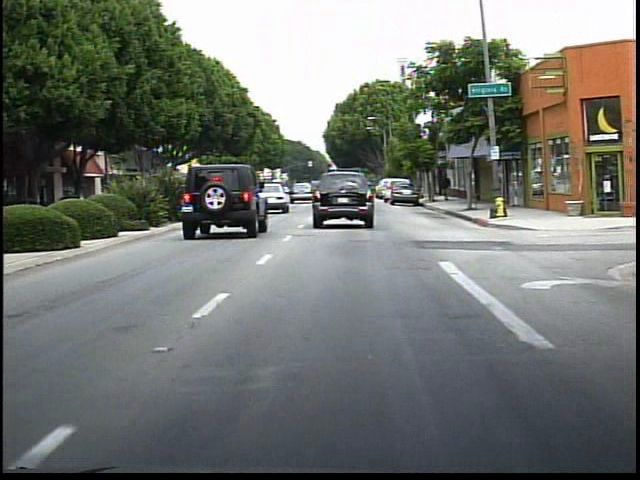person: (437, 168, 458, 204)
